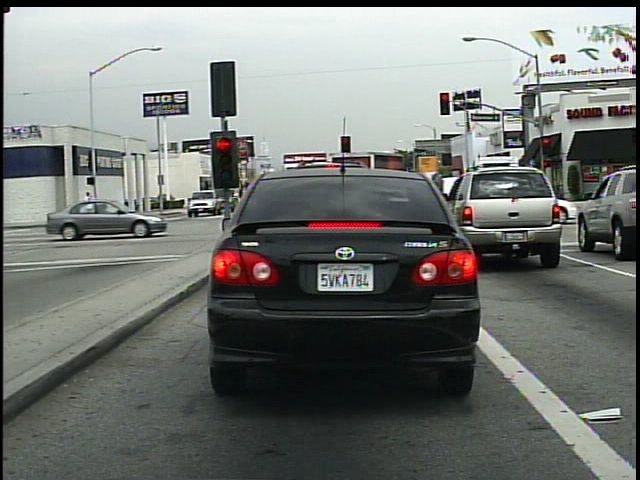person: (80, 189, 102, 223)
